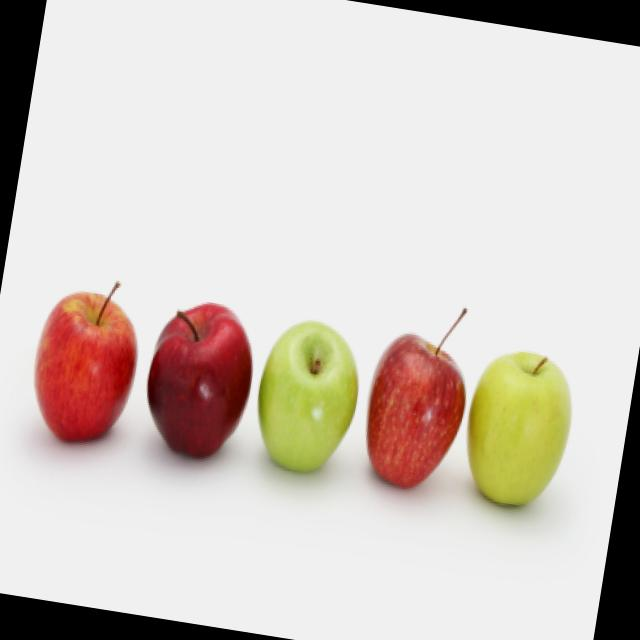apple: (132, 290, 266, 475), (356, 334, 470, 498)
